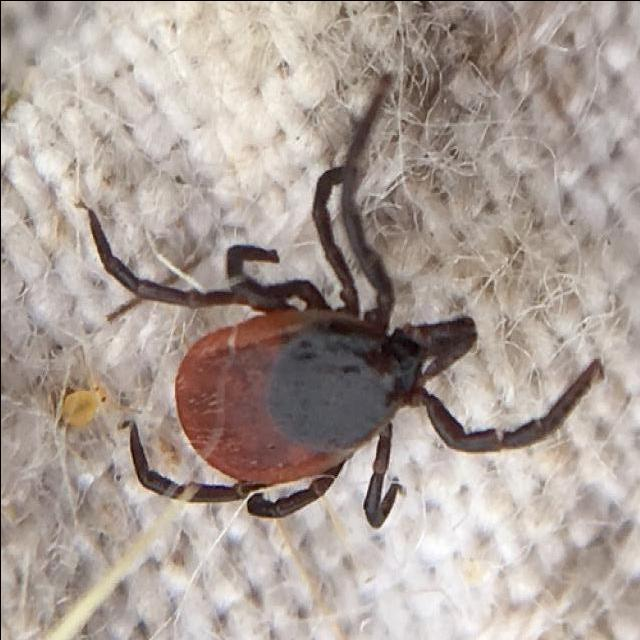Ixodes Ricinus-F: (87, 81, 577, 520)
